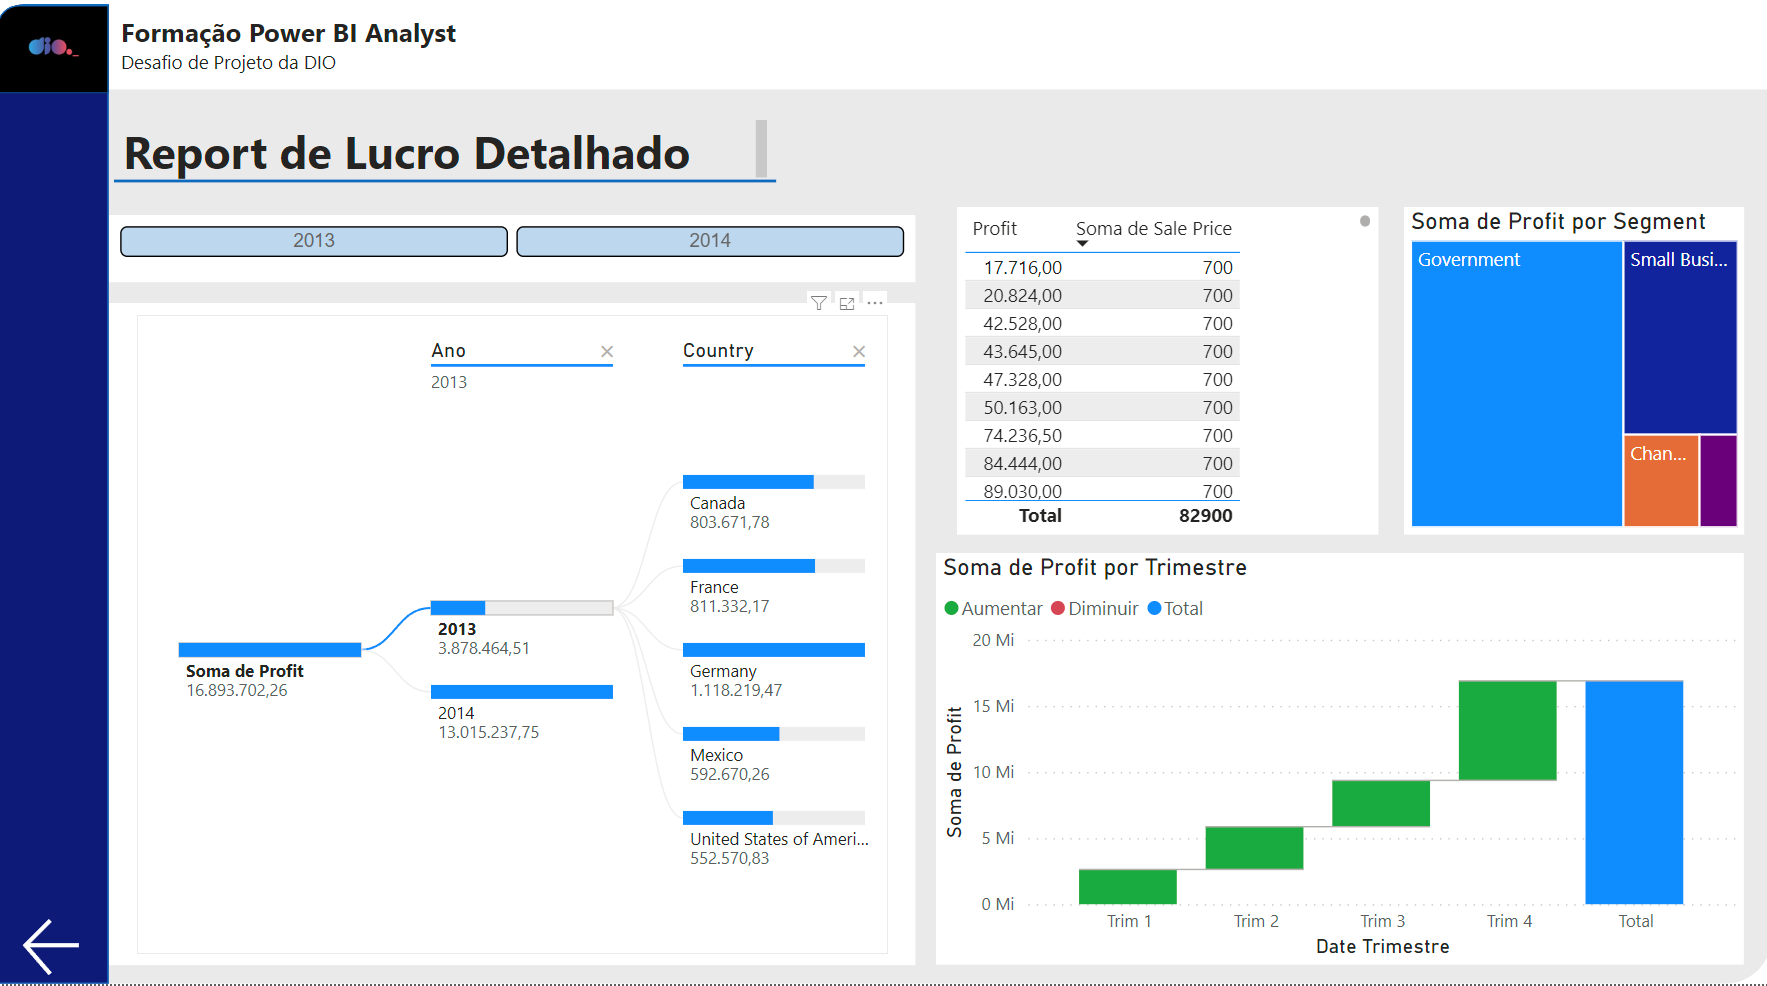

The dashboard page shown, as its layout file describes it:
{"tool":"powerbi","page":{"name":"Página 2","canvas":[1280,720],"ordinal":1},"visuals":[{"type":"shape","box":[42.6,20.7,1225.3,699.3],"z":0},{"type":"shape","box":[83.9,127.8,473,37.1],"z":0,"group":"g1"},{"type":"textbox","box":[85.3,97.6,470.2,52.2],"z":1000,"group":"g1"},{"type":"shape","box":[0,20,79.8,699.9],"z":1000},{"type":"shape","box":[0,20.7,79.8,63.4],"z":2000},{"type":"shape","title":"Fundo do Título","box":[79.8,19.2,1198.8,62],"z":3000},{"type":"textbox","title":"Título do report","box":[83.9,22,378.1,63.2],"z":4000},{"type":"shape","box":[79.7,233.7,576.1,473],"z":5000},{"type":"decompositionTreeVisual","fields":{"Analyze":["Sum(financials.Profit)"],"ExplainBy":["financials.Date.Variation.Hierarquia de datas.Ano","financials.Country"]},"box":[99.8,242.2,536.3,456.5],"z":6000},{"type":"waterfallChart","fields":{"Category":["financials.Date.Variation.Hierarquia de datas.Trimestre"],"Y":["Sum(financials.Profit)"]},"box":[670.9,412.5,577.4,294.2],"z":7000},{"type":"ChicletSlicer1448559807354","fields":{"Category":["financials.Date.Variation.Hierarquia de datas.Ano"]},"box":[79.7,170.5,576.1,48.1],"z":8000},{"type":"treemap","fields":{"Values":["Sum(financials.Profit)"],"Group":["financials.Segment"]},"box":[1005,165,243.4,233.7],"z":9000},{"type":"group","id":"g1","title":"Sales report","box":[83.9,97.6,473,67.4],"z":10000},{"type":"tableEx","fields":{"Values":["financials.Profit","Sum(financials.Sale Price)"]},"box":[685.9,164.8,301,234.5],"z":12000},{"type":"actionButton","box":[13.7,668.1,57.7,51.6],"z":13000},{"type":"image","title":"Logo_dio","box":[0,20,79.8,60.6],"z":14000}]}

Visuals, with their boxes on the page's 1280x720 design canvas (x1, y1, x2, y2). These are canvas units, not pixel positions in the 1767x986 screenshot, which may show the page scaled, cropped or inside an application window:
shape: bbox=[43, 21, 1268, 720]
shape: bbox=[84, 128, 557, 165]
textbox: bbox=[85, 98, 556, 150]
shape: bbox=[0, 20, 80, 720]
shape: bbox=[0, 21, 80, 84]
"Fundo do Título" shape: bbox=[80, 19, 1279, 81]
"Título do report" textbox: bbox=[84, 22, 462, 85]
shape: bbox=[80, 234, 656, 707]
decompositionTreeVisual - Sum(financials.Profit) x financials.Date.Variation.Hierarquia de datas.Ano: bbox=[100, 242, 636, 699]
waterfallChart - financials.Date.Variation.Hierarquia de datas.Trimestre x Sum(financials.Profit): bbox=[671, 412, 1248, 707]
ChicletSlicer1448559807354 - financials.Date.Variation.Hierarquia de datas.Ano: bbox=[80, 170, 656, 219]
treemap - Sum(financials.Profit) x financials.Segment: bbox=[1005, 165, 1248, 399]
"Sales report" group: bbox=[84, 98, 557, 165]
tableEx - financials.Profit x Sum(financials.Sale Price): bbox=[686, 165, 987, 399]
actionButton: bbox=[14, 668, 71, 720]
"Logo_dio" image: bbox=[0, 20, 80, 81]
